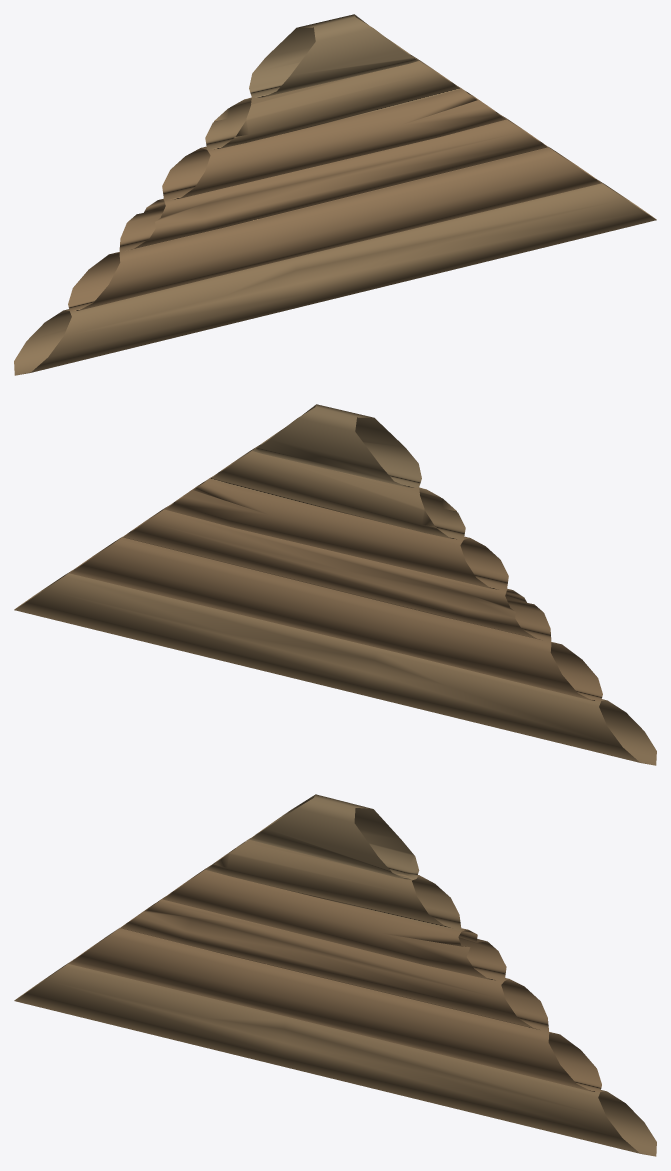
File: rpgpp_ag_roof_end_01_6x3_wall_a.fbx
3 renders of one model, top to bottom at view 1: azimuth 30°, elevation 25°; view 2: azimuth 150°, elevation 25°; view 3: azimuth 330°, elevation 25°, orthographic.
Visible parts, largest first — view 1: rpgpp_ag_roof_end_01_6x3_wall_a; view 2: rpgpp_ag_roof_end_01_6x3_wall_a; view 3: rpgpp_ag_roof_end_01_6x3_wall_a.
Boxes of the visible parts, <box> form: rpgpp_ag_roof_end_01_6x3_wall_a: <box>14,14,656,375</box>; rpgpp_ag_roof_end_01_6x3_wall_a: <box>14,404,656,765</box>; rpgpp_ag_roof_end_01_6x3_wall_a: <box>14,794,656,1156</box>.
Bounding box in the file's own units: 6.48 × 2.66 × 0.4342.
